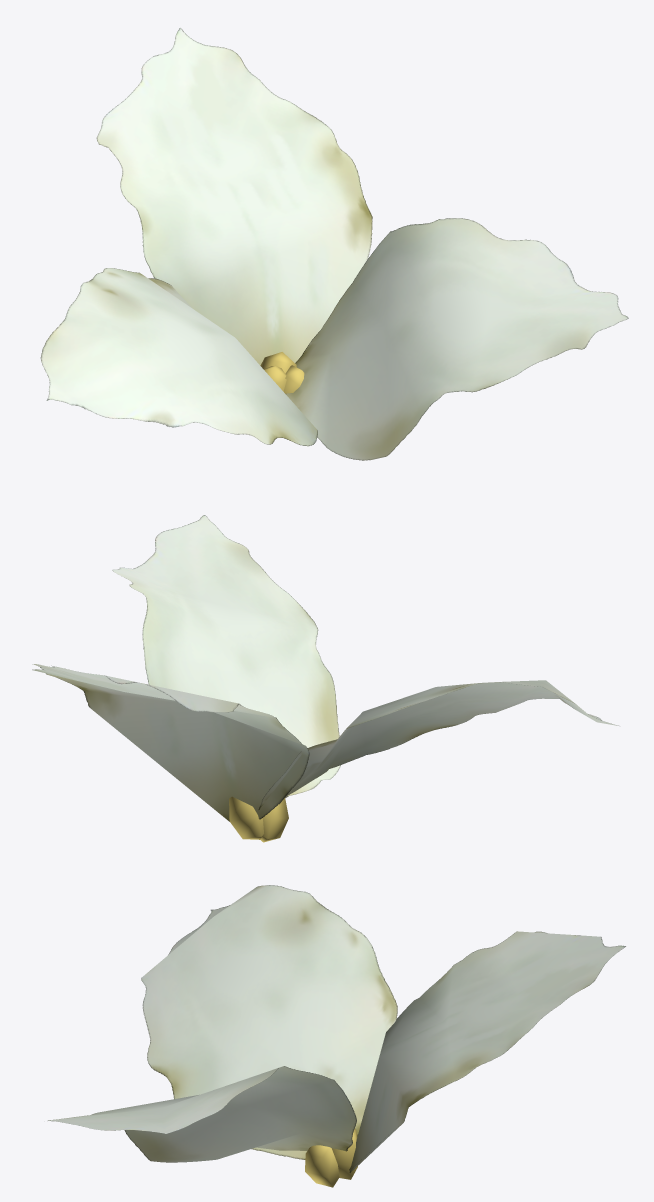
The model's file is FlowerSet.fbx.
3 renders of one model, top to bottom at view 1: azimuth 30°, elevation 25°; view 2: azimuth 150°, elevation 25°; view 3: azimuth 270°, elevation 25°, orthographic. The views are drawn at different scales.
Parts seen in each view (by area): view 1: Stamens3; view 2: Stamens3; view 3: Stamens3.
Boxes of the visible parts, box(x1,y1,x2,y2) form: Stamens3: box(40, 28, 628, 460); Stamens3: box(32, 515, 618, 842); Stamens3: box(47, 885, 625, 1187).
Bounding box in the file's own units: 0.4678 × 0.2171 × 0.4577.
